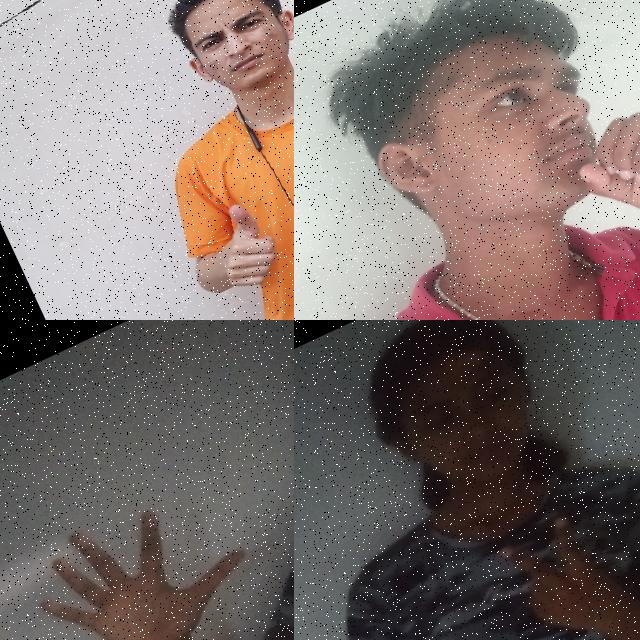Fist Mouth: (314, 0, 640, 320)
Moutza: (7, 462, 279, 640)
Reversed Victory: (482, 496, 640, 640)
Thumbs Up: (192, 190, 294, 301)
